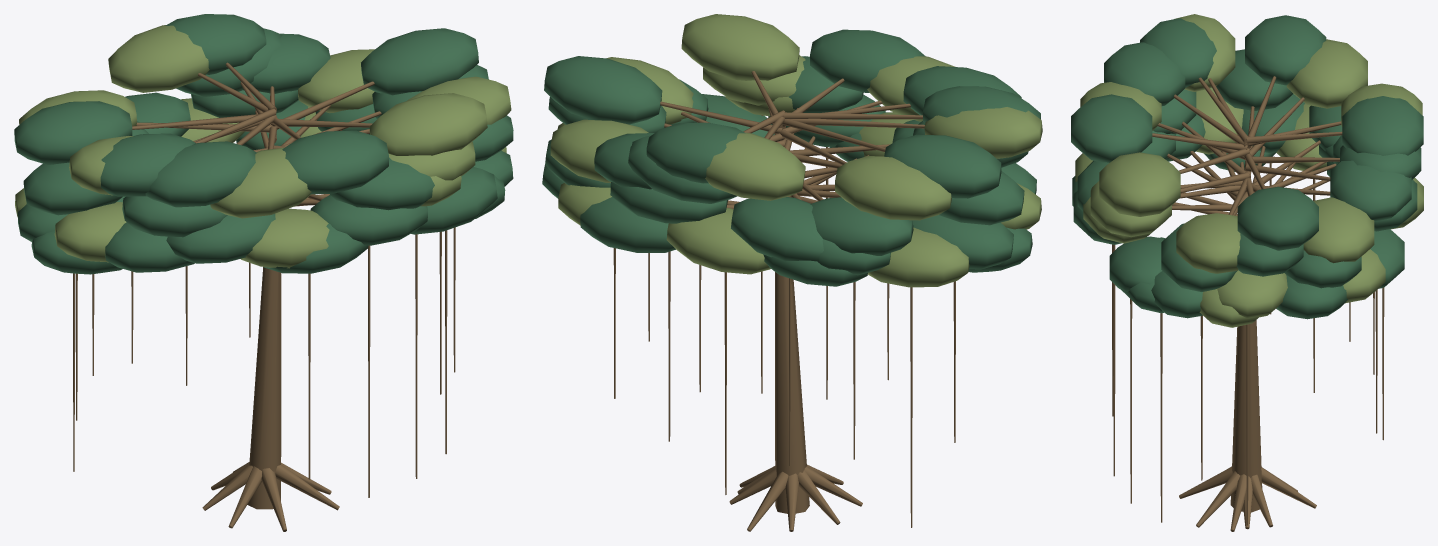
File: tree-banyan.glb
3 views of the same model, side by side, from view 1: azimuth 30°, elevation 25°; view 2: azimuth 150°, elevation 25°; view 3: azimuth 270°, elevation 25° (orthographic). The views are drawn at different scales.
Parts seen in each view (by area): view 1: Canopy_13, Trunk, Canopy_3, Canopy_25, Canopy_19, Canopy_35, Canopy_15, Canopy_27, Canopy_43, Canopy_2, Canopy_6, Canopy_32 (+36 smaller); view 2: Canopy_13, Canopy_3, Canopy_33, Trunk, Canopy_15, Canopy_25, Canopy_28, Canopy_19, Canopy_9, Canopy_20, Canopy_36, Canopy_2 (+33 smaller); view 3: Canopy_19, Canopy_3, Canopy_13, Canopy_2, Canopy_25, Trunk, Canopy_33, Canopy_10, Canopy_39, Canopy_35, Canopy_42, Canopy_43 (+45 smaller).
Part boxes in pixels (left/top/right/bottom): Canopy_13: left=361, top=28, right=478, bottom=95; Trunk: left=247, top=267, right=281, bottom=509; Canopy_3: left=369, top=93, right=487, bottom=155; Canopy_25: left=14, top=101, right=132, bottom=164; Canopy_19: left=282, top=130, right=388, bottom=194; Canopy_35: left=145, top=141, right=256, bottom=207; Canopy_15: left=108, top=25, right=209, bottom=92; Canopy_27: left=210, top=147, right=311, bottom=218; Canopy_43: left=100, top=133, right=195, bottom=196; Canopy_2: left=166, top=14, right=266, bottom=74; Canopy_6: left=241, top=208, right=329, bottom=268; Canopy_32: left=310, top=195, right=427, bottom=245; Canopy_13: left=544, top=56, right=662, bottom=124; Canopy_3: left=681, top=14, right=799, bottom=80; Canopy_33: left=835, top=156, right=951, bottom=220; Trunk: left=775, top=272, right=809, bottom=513; Canopy_15: left=705, top=132, right=805, bottom=200; Canopy_25: left=884, top=134, right=1001, bottom=198; Canopy_28: left=731, top=197, right=823, bottom=261; Canopy_19: left=810, top=29, right=925, bottom=92; Canopy_9: left=924, top=107, right=1042, bottom=158; Canopy_20: left=810, top=197, right=913, bottom=255; Canopy_36: left=666, top=208, right=770, bottom=274; Canopy_2: left=646, top=122, right=745, bottom=183; Canopy_19: left=1071, top=94, right=1152, bottom=162; Canopy_3: left=1099, top=152, right=1180, bottom=216; Canopy_13: left=1237, top=186, right=1318, bottom=250; Canopy_2: left=1342, top=96, right=1423, bottom=155; Canopy_25: left=1245, top=15, right=1326, bottom=85; Trunk: left=1230, top=320, right=1262, bottom=512; Canopy_33: left=1286, top=39, right=1367, bottom=108; Canopy_10: left=1330, top=160, right=1411, bottom=221; Canopy_39: left=1303, top=197, right=1374, bottom=263; Canopy_35: left=1104, top=42, right=1185, bottom=105; Canopy_42: left=1176, top=213, right=1240, bottom=273; Canopy_43: left=1140, top=18, right=1216, bottom=87.
Size of the model in its own units: 6.06 by 5.3 by 4.18.
